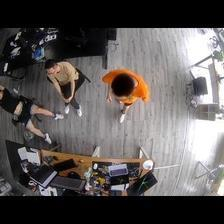normal: (100, 68, 150, 123)
